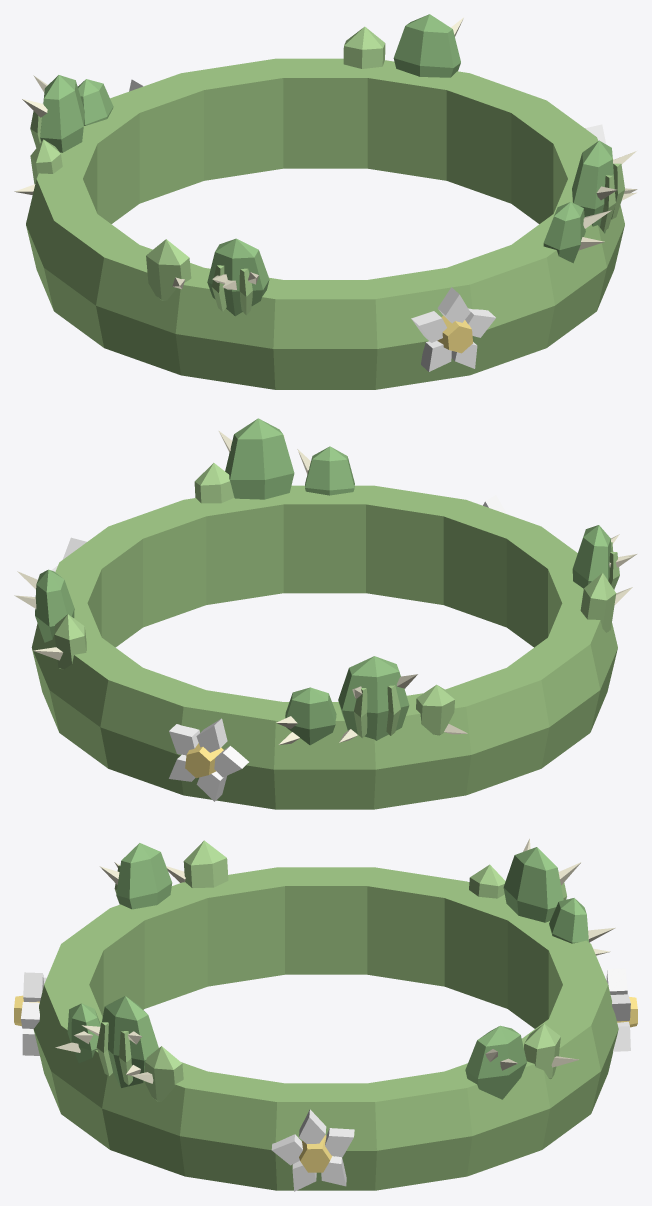
The model's file is CactusBand.fbx.
3 renders of one model, top to bottom at view 1: azimuth 30°, elevation 25°; view 2: azimuth 150°, elevation 25°; view 3: azimuth 270°, elevation 25°, orthographic. The views are drawn at different scales.
Visible parts, largest first — view 1: CactusBand.Band, CactusBand.CactusPads, CactusBand.CactusHighlight, CactusBand.Petals, CactusBand.Spines, CactusBand.FlowerCentres; view 2: CactusBand.Band, CactusBand.CactusPads, CactusBand.CactusHighlight, CactusBand.Petals, CactusBand.Spines, CactusBand.FlowerCentres; view 3: CactusBand.Band, CactusBand.CactusPads, CactusBand.CactusHighlight, CactusBand.Petals, CactusBand.Spines, CactusBand.FlowerCentres.
Part boxes in pixels (<box>): CactusBand.Band: <box>26,58,624,389</box>; CactusBand.CactusPads: <box>40,14,614,316</box>; CactusBand.CactusHighlight: <box>30,26,624,315</box>; CactusBand.Petals: <box>129,79,605,371</box>; CactusBand.Spines: <box>14,17,637,289</box>; CactusBand.FlowerCentres: <box>437,159,613,353</box>; CactusBand.Band: <box>31,485,617,809</box>; CactusBand.CactusPads: <box>35,418,611,745</box>; CactusBand.CactusHighlight: <box>54,463,619,738</box>; CactusBand.Petals: <box>51,495,506,801</box>; CactusBand.Spines: <box>14,430,636,744</box>; CactusBand.FlowerCentres: <box>185,743,223,778</box>; CactusBand.Band: <box>33,867,618,1190</box>; CactusBand.CactusPads: <box>67,843,588,1099</box>; CactusBand.CactusHighlight: <box>96,840,566,1101</box>; CactusBand.Petals: <box>21,968,630,1191</box>; CactusBand.Spines: <box>55,838,615,1083</box>; CactusBand.FlowerCentres: <box>14,995,637,1172</box>.
Size of the model in its own units: 1.6 by 0.4664 by 1.66.
